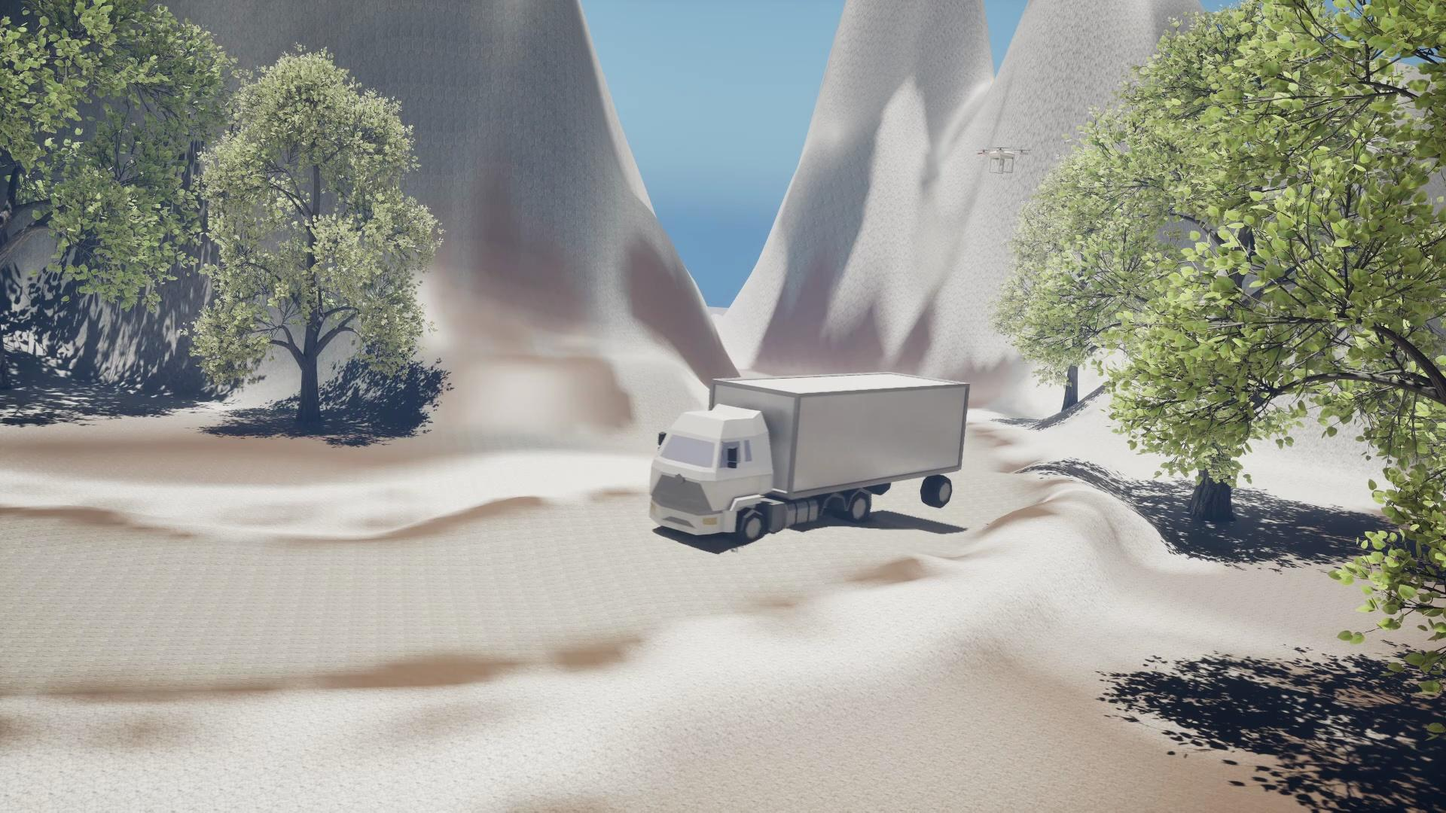truck: (648, 373, 970, 553)
